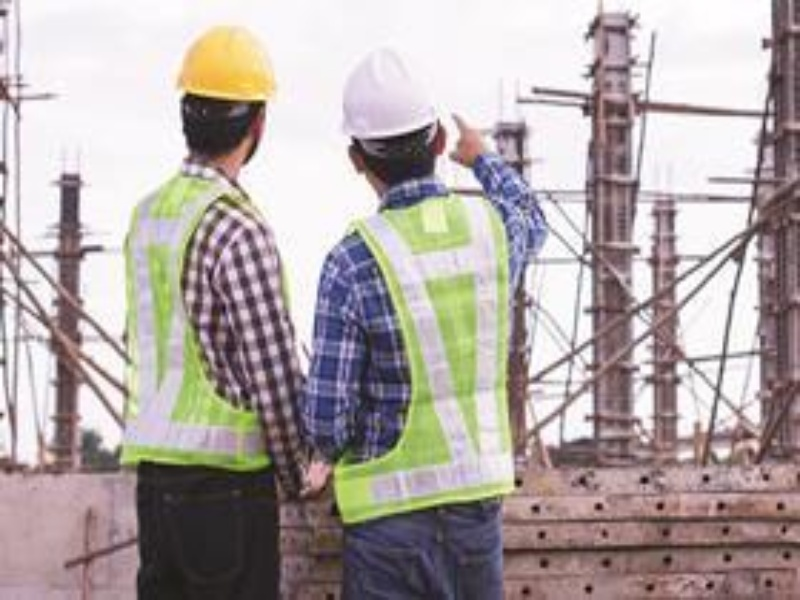helm proyek: (318, 45, 461, 205), (171, 31, 295, 188)
